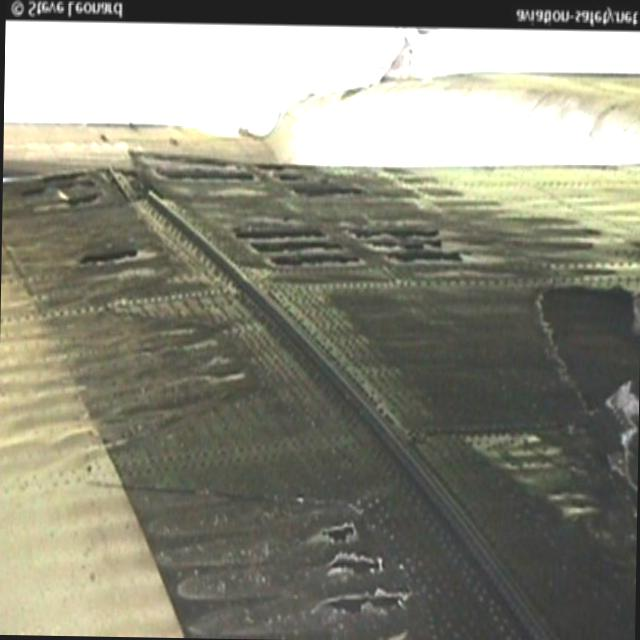crack: (304, 518, 414, 628)
